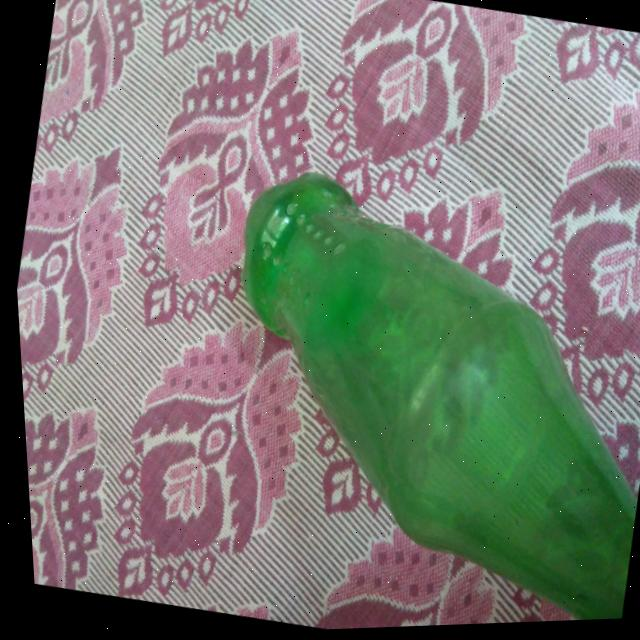Dry: (202, 120, 640, 626)
